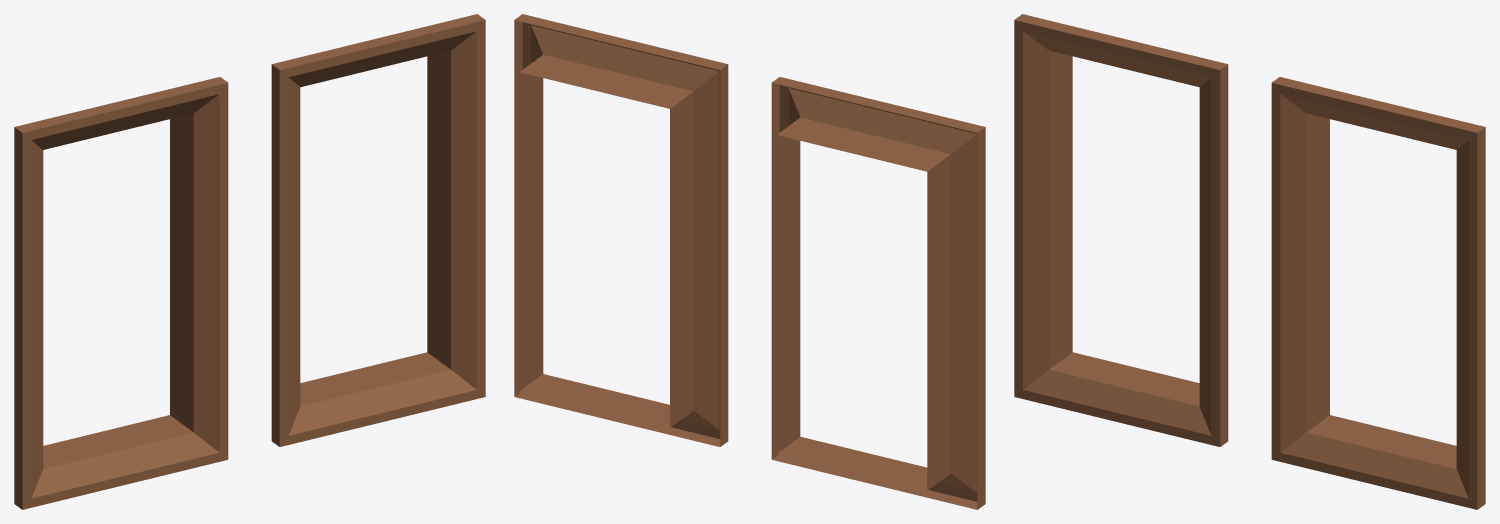
The model's file is DBK_WinDouble_Trim_C_Full.fbx.
The picture shows the model from 3 angles, left to right: view 1: azimuth 30°, elevation 25°; view 2: azimuth 150°, elevation 25°; view 3: azimuth 330°, elevation 25°; orthographic projection.
Visible parts, largest first — view 1: DBK_WinDouble_Trim_C_Full; view 2: DBK_WinDouble_Trim_C_Full; view 3: DBK_WinDouble_Trim_C_Full.
Boxes of the visible parts, x1,y1,x2,y2 form: DBK_WinDouble_Trim_C_Full: [14, 14, 485, 509]; DBK_WinDouble_Trim_C_Full: [514, 14, 985, 509]; DBK_WinDouble_Trim_C_Full: [1014, 14, 1485, 509].
Bounding box in the file's own units: 180 × 140 × 20.75.
